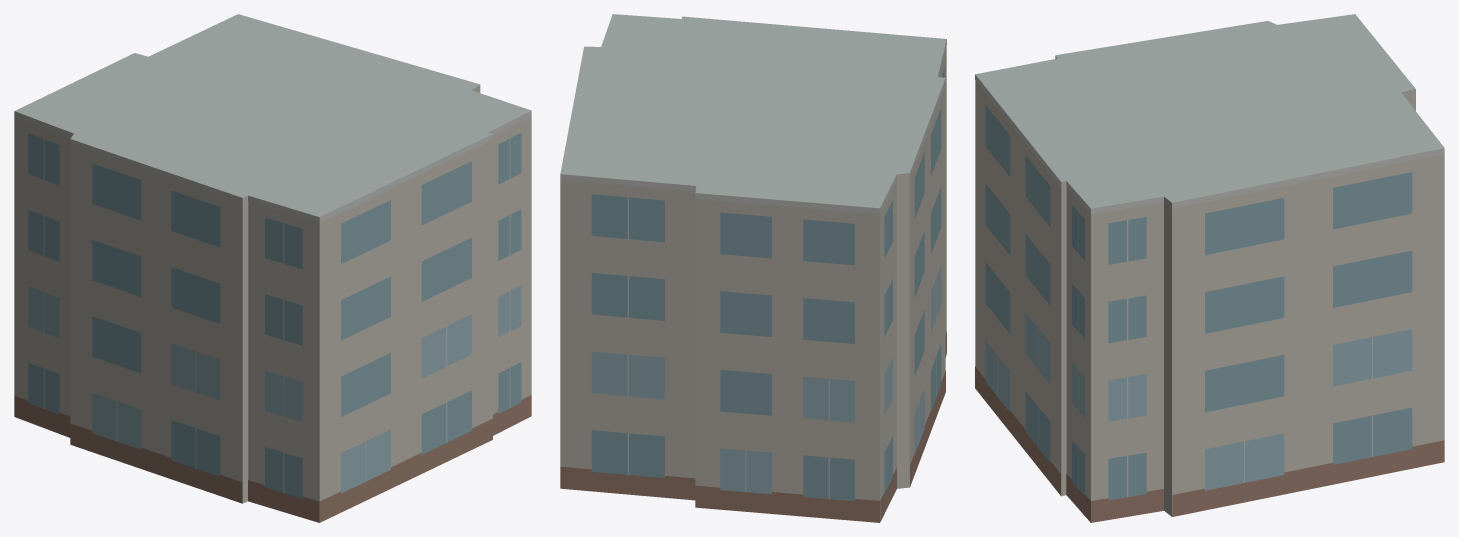
The model's file is survey-upis-32638768.glb.
The picture shows the model from 3 angles, left to right: view 1: azimuth 30°, elevation 25°; view 2: azimuth 150°, elevation 25°; view 3: azimuth 270°, elevation 25°; orthographic projection. The views are drawn at different scales.
Parts seen in each view (by area): view 1: survey-upis-32638768.tmp; view 2: survey-upis-32638768.tmp; view 3: survey-upis-32638768.tmp.
Part boxes in pixels (x1=…): survey-upis-32638768.tmp: x1=14, y1=14, x2=531, y2=522; survey-upis-32638768.tmp: x1=560, y1=14, x2=946, y2=522; survey-upis-32638768.tmp: x1=975, y1=14, x2=1444, y2=522.
Bounding box in the file's own units: 17.57 × 13.2 × 17.89.
